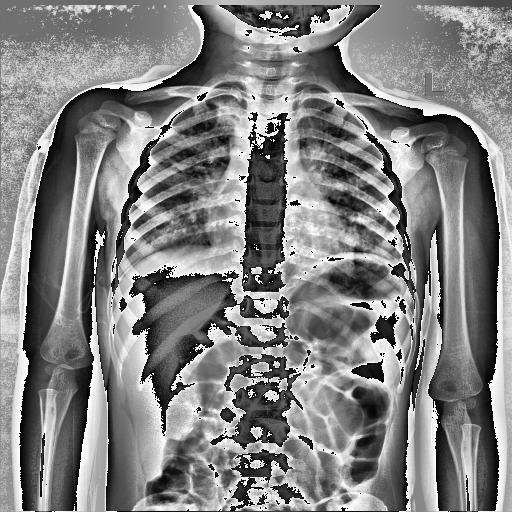5- ILD: (301, 114, 401, 262), (132, 113, 225, 257), (140, 112, 230, 254), (309, 118, 389, 253)
6- Infiltration: (142, 104, 228, 254), (310, 130, 396, 254)
7- Lung Opacity: (142, 104, 228, 254), (310, 130, 396, 254)
